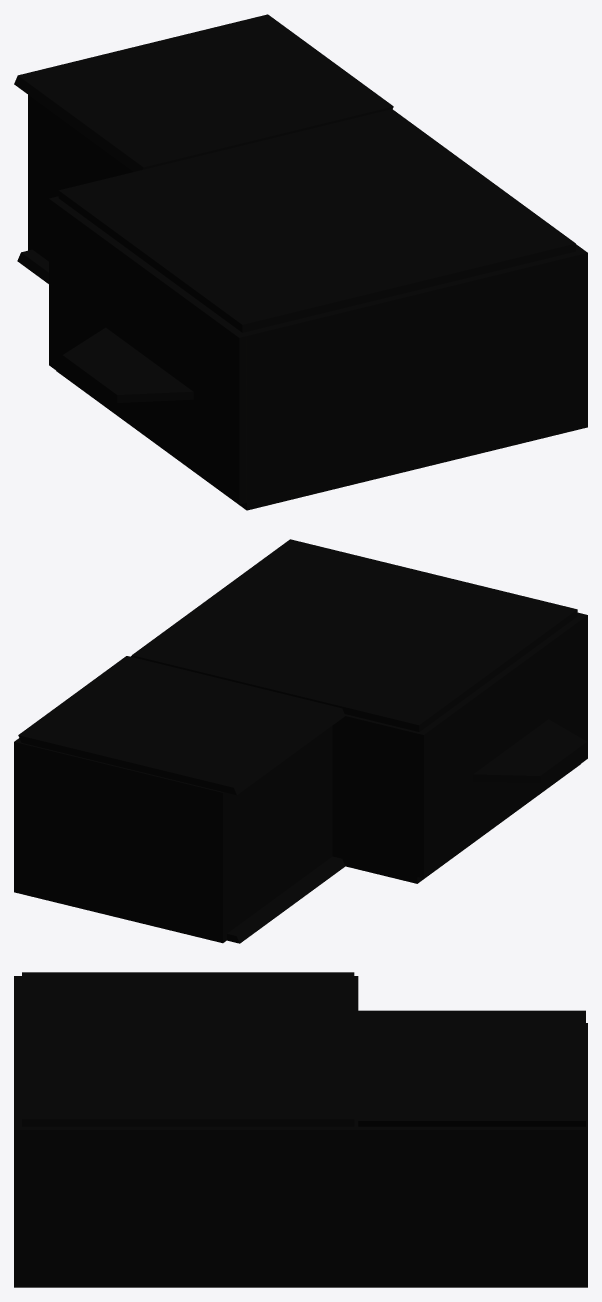
File: re_house_baked.obj
The picture shows the model from 3 angles, top to bottom: view 1: azimuth 30°, elevation 25°; view 2: azimuth 150°, elevation 25°; view 3: azimuth 270°, elevation 25°; orthographic projection. The views are drawn at different scales.
Parts seen in each view (by area): view 1: Hall_Cube.001, Dining_Cube.002; view 2: Hall_Cube.001, Dining_Cube.002; view 3: Hall_Cube.001, Dining_Cube.002.
Part boxes in pixels (x1,y1,x2,y2): Hall_Cube.001: (49,109,587,510); Dining_Cube.002: (14,14,393,283); Hall_Cube.001: (131,539,587,883); Dining_Cube.002: (14,656,345,943); Hall_Cube.001: (14,972,358,1287); Dining_Cube.002: (358,1010,587,1287).
Bounding box in the file's own units: 54 × 23 × 72.5.
Materials: 22 (21 with a texture image).
